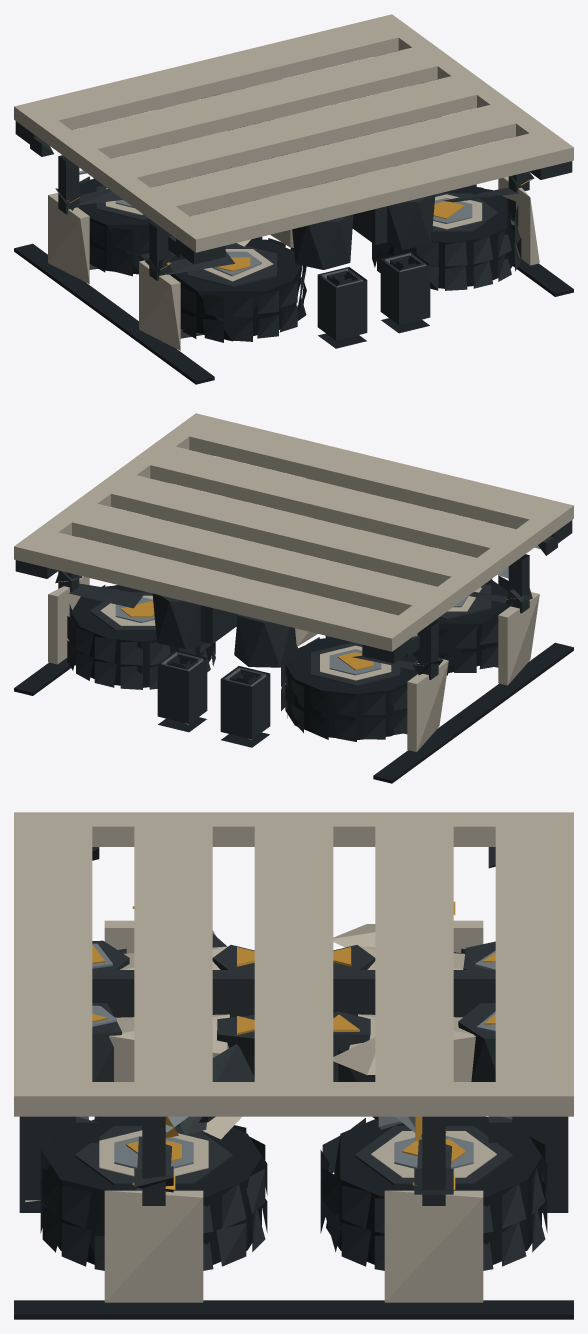
File: stride02_stowed_d0_lod2.glb
The picture shows the model from 3 angles, top to bottom: view 1: azimuth 30°, elevation 25°; view 2: azimuth 150°, elevation 25°; view 3: azimuth 270°, elevation 25°; orthographic projection. The views are drawn at different scales.
Parts seen in each view (by area): view 1: STRIDE02_STATIC_SURFACE; view 2: STRIDE02_STATIC_SURFACE; view 3: STRIDE02_STATIC_SURFACE.
Boxes of the visible parts, box(x1,y1,x2,y2) form: STRIDE02_STATIC_SURFACE: box(14, 14, 573, 384); STRIDE02_STATIC_SURFACE: box(14, 413, 573, 783); STRIDE02_STATIC_SURFACE: box(14, 812, 573, 1319).
Size of the model in its own units: 1.2 by 0.44 by 1.
